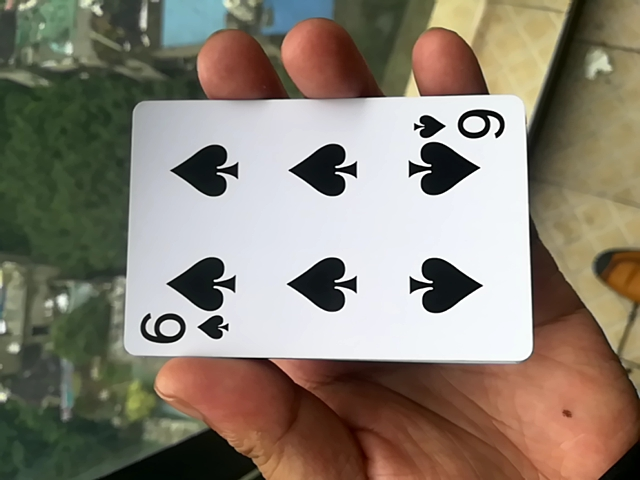ht 6: (113, 96, 534, 367)
